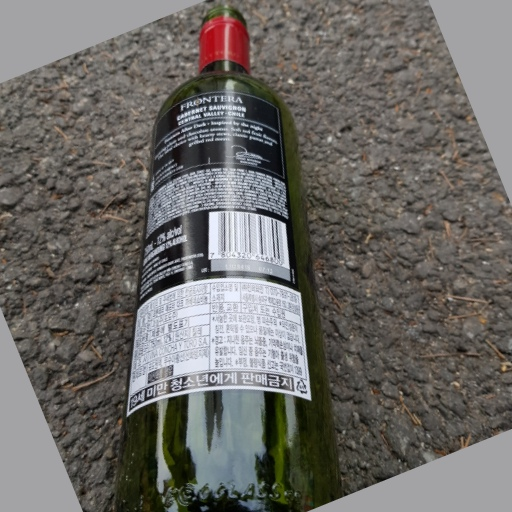Glass_2: (111, 6, 342, 512)
